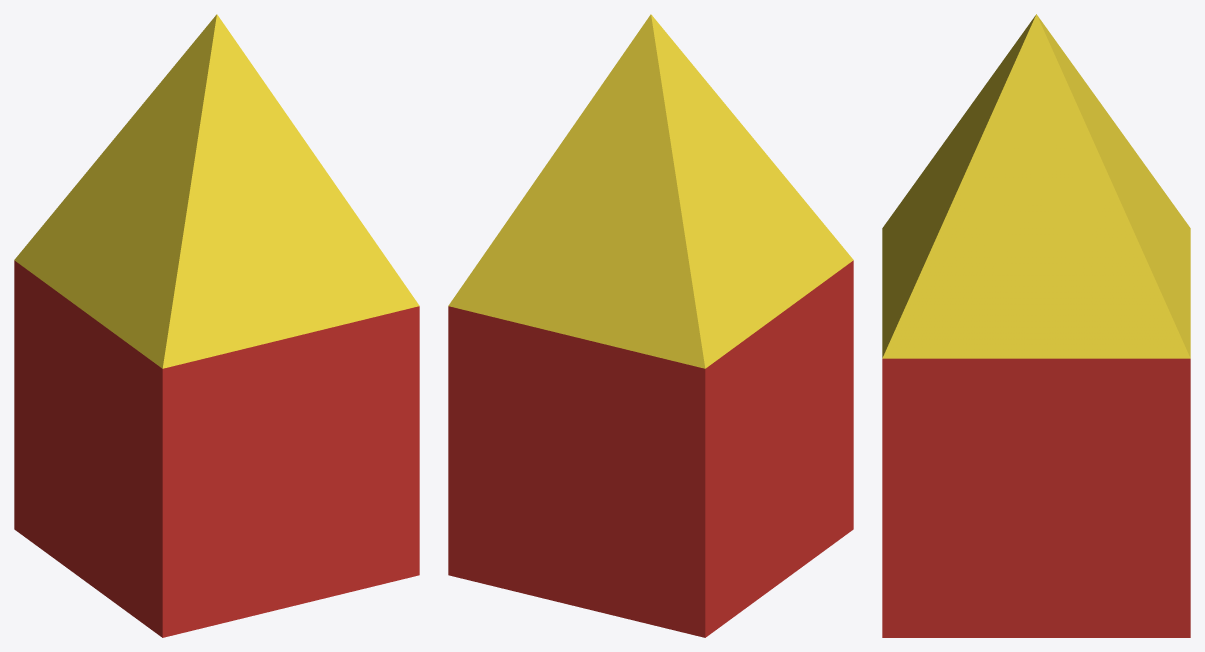
Rendered from tower.glb.
3 renders of one model, left to right at view 1: azimuth 30°, elevation 25°; view 2: azimuth 150°, elevation 25°; view 3: azimuth 270°, elevation 25°, orthographic. The views are drawn at different scales.
Size of the model in its own units: 1 by 2 by 1.
